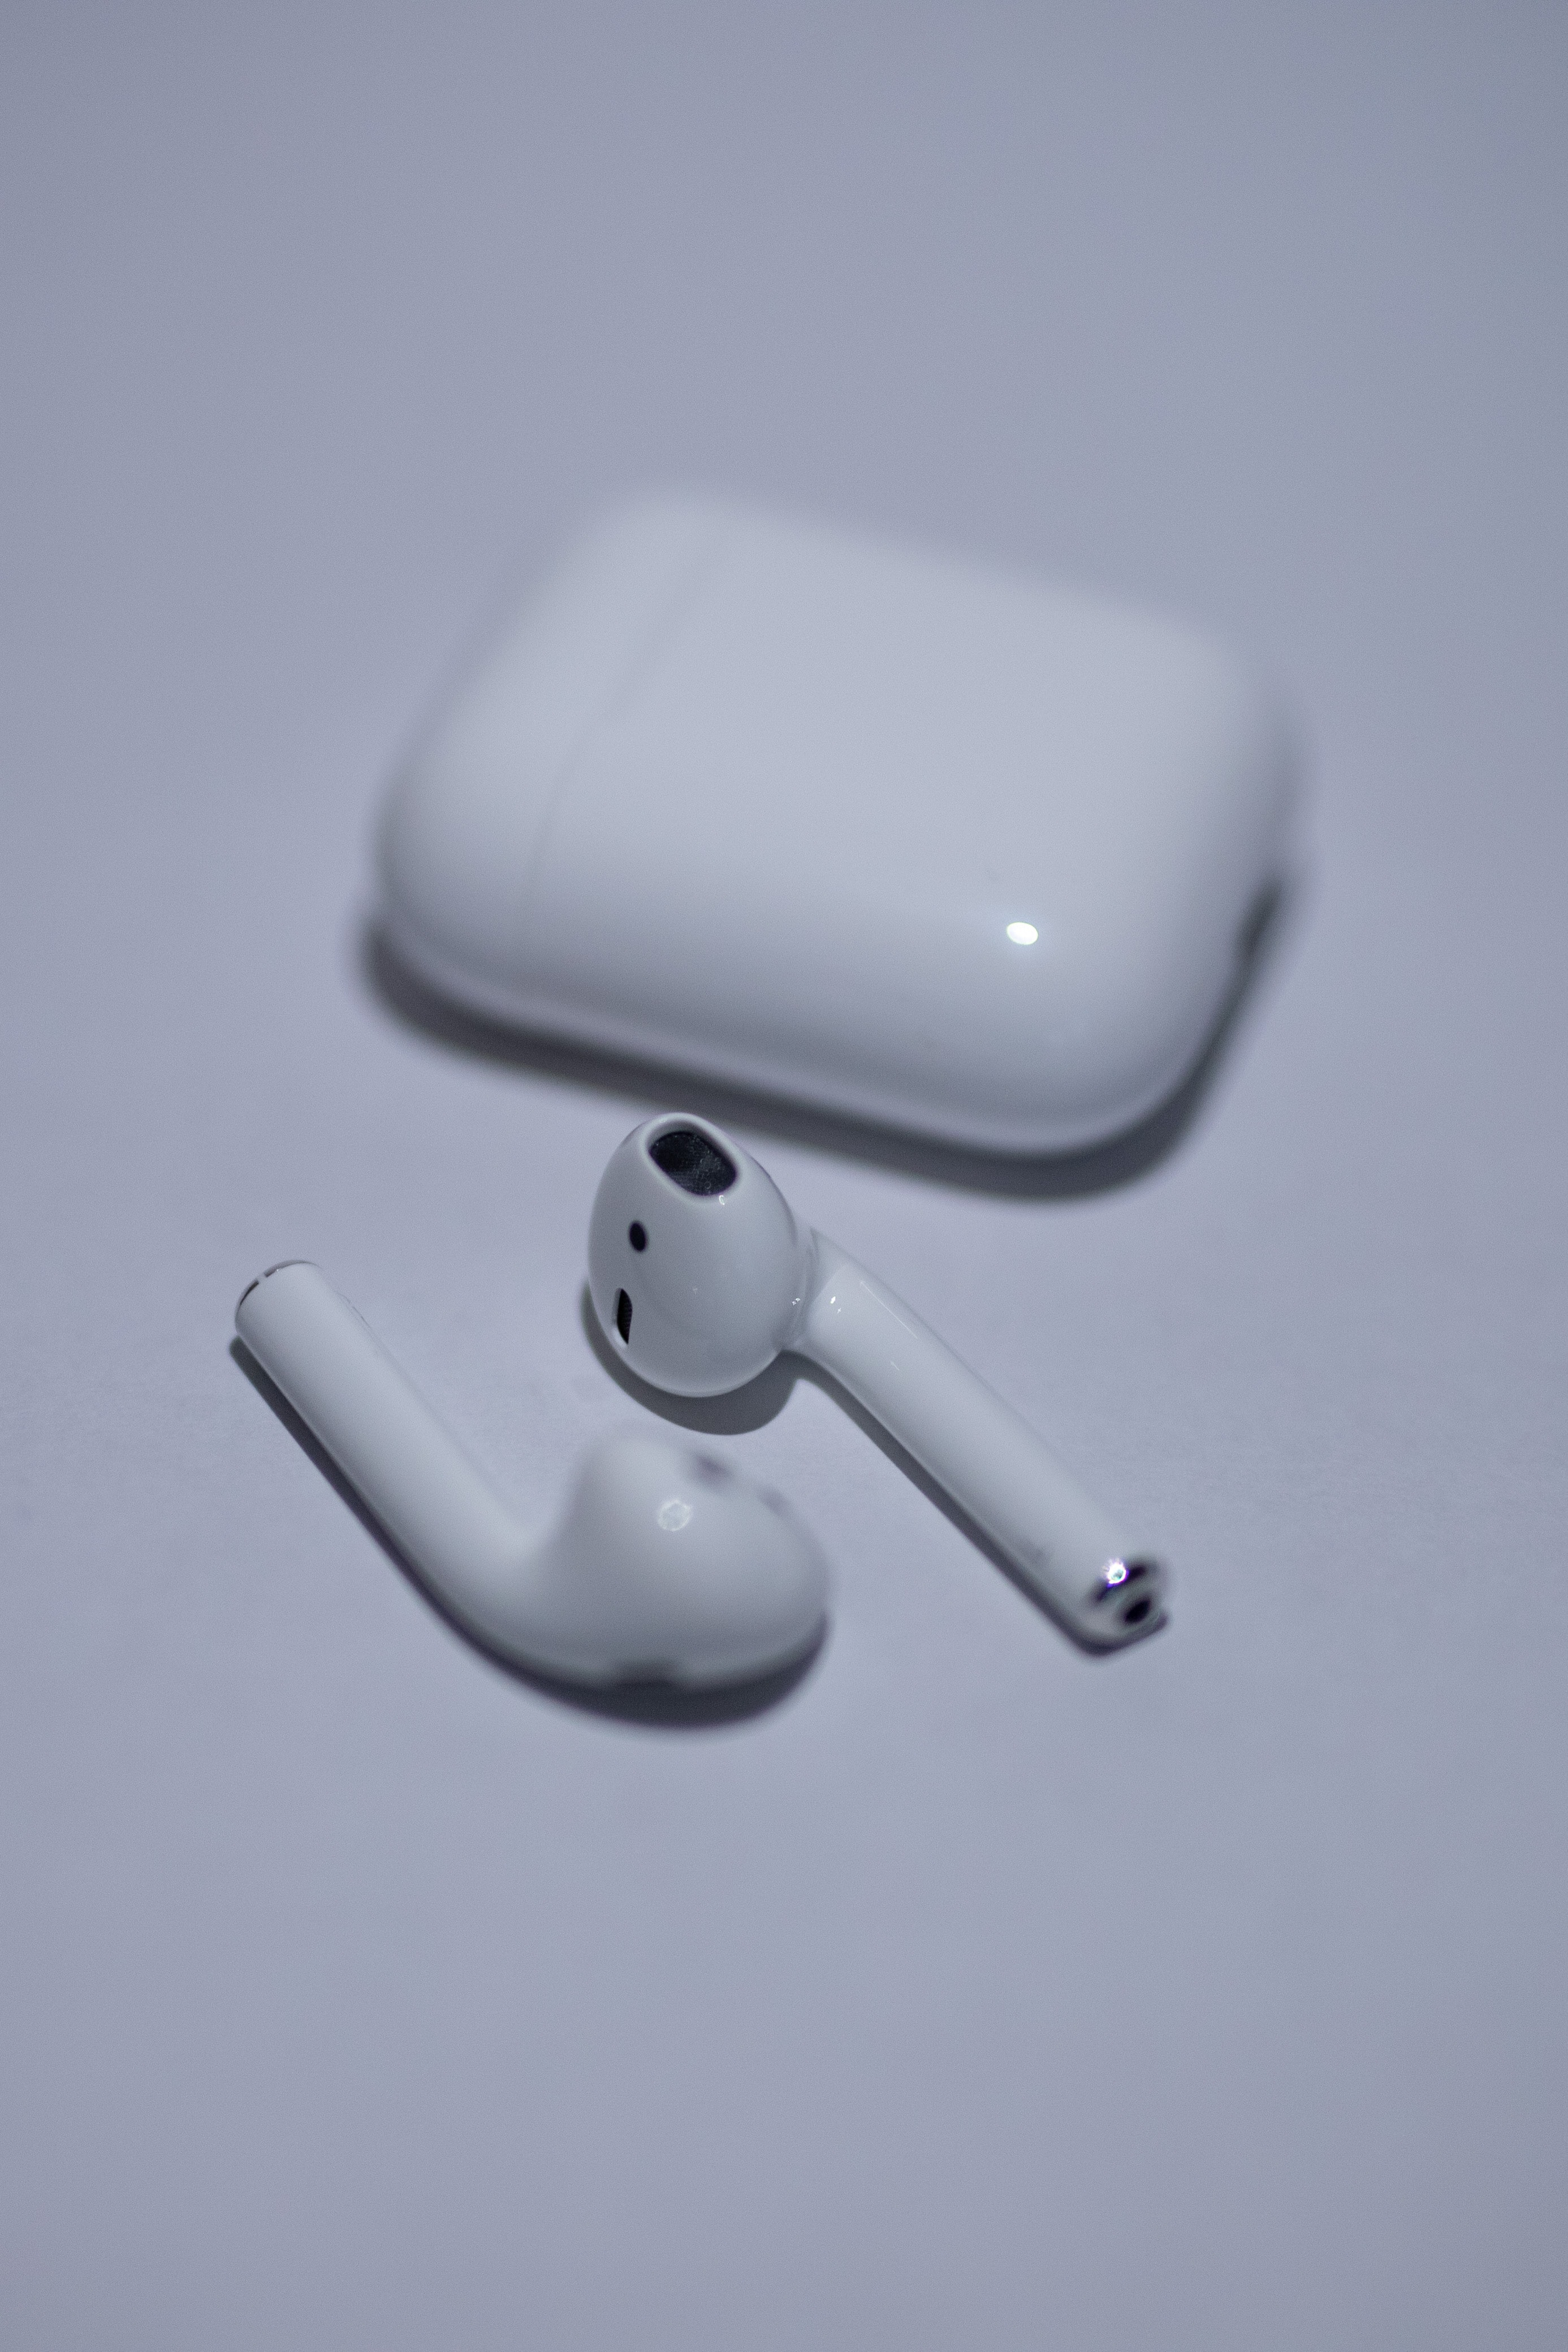airpods: (373, 492, 1291, 1164)
